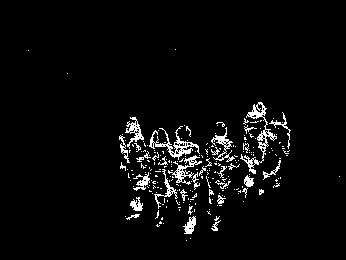person: (201, 119, 240, 235), (118, 116, 149, 223), (171, 122, 200, 234), (258, 107, 291, 197), (145, 125, 174, 227), (242, 98, 268, 197)
